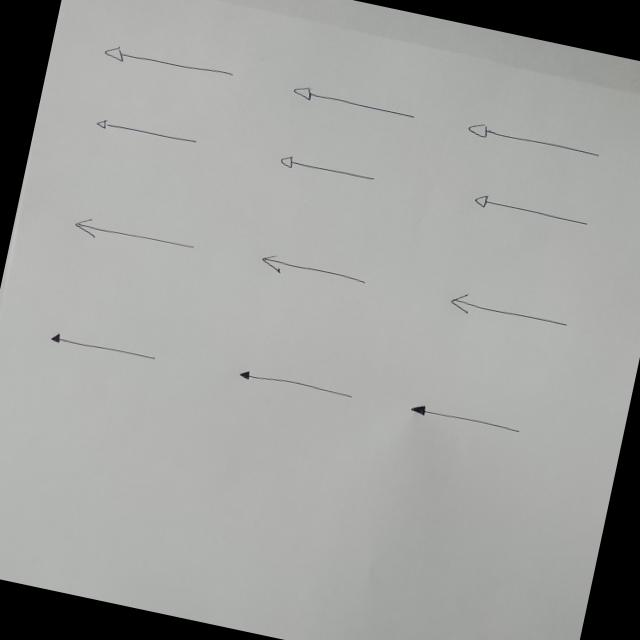arrow_line_left: (462, 116, 604, 164), (99, 38, 238, 87), (286, 79, 421, 127), (68, 212, 198, 261), (444, 288, 570, 338), (469, 188, 592, 232), (256, 248, 370, 294), (404, 398, 524, 440), (235, 366, 357, 406), (44, 328, 160, 368), (90, 112, 201, 150), (274, 150, 380, 188)
